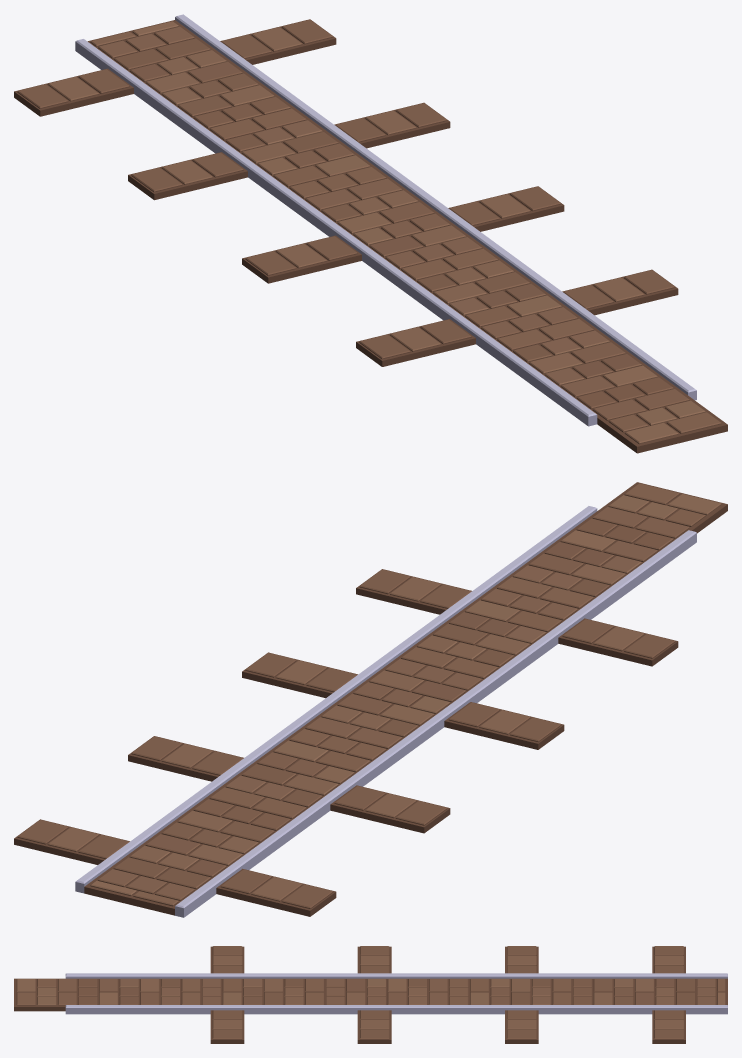
The model's file is PlotPaths.glb.
3 renders of one model, top to bottom at view 1: azimuth 30°, elevation 25°; view 2: azimuth 150°, elevation 25°; view 3: azimuth 270°, elevation 25°, orthographic. The views are drawn at different scales.
Visible parts, largest first — view 1: PlotPaths; view 2: PlotPaths; view 3: PlotPaths.
Boxes of the visible parts, x1,y1,x2,y2 form: PlotPaths: [14, 14, 727, 453]; PlotPaths: [14, 482, 727, 917]; PlotPaths: [14, 946, 727, 1043].
Bounding box in the file's own units: 30 × 1.05 × 97.
1 material, 1 textured.
